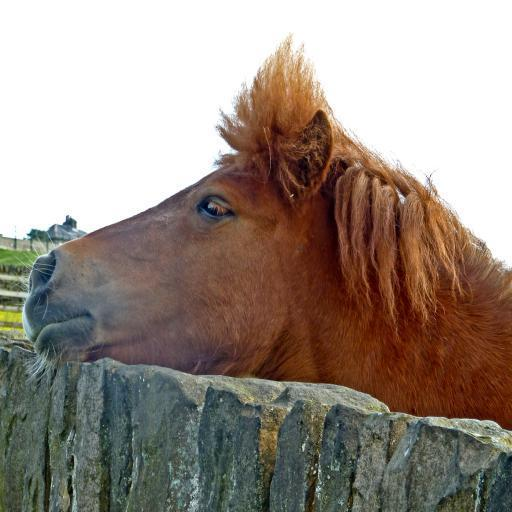horse: (22, 30, 512, 434)
